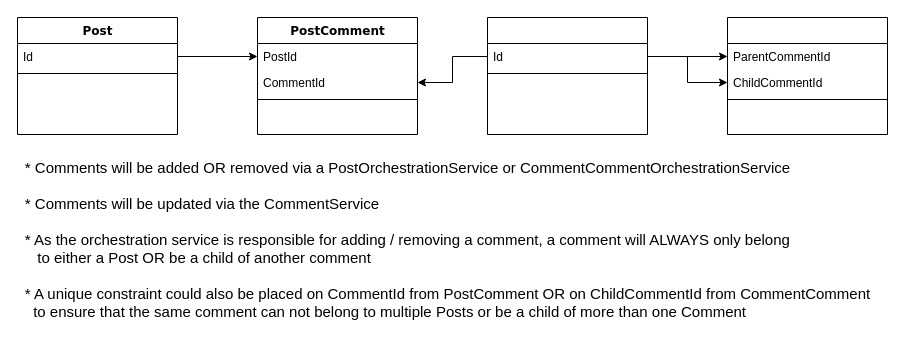
The diagram is 905 pixels wide and 342 high, and some of its shapes have lost their labels. Here are the shapes that lost their labels. From the top down, the box of each, then its label:
(486, 16, 648, 134): Comment
(726, 16, 888, 134): CommentComment
